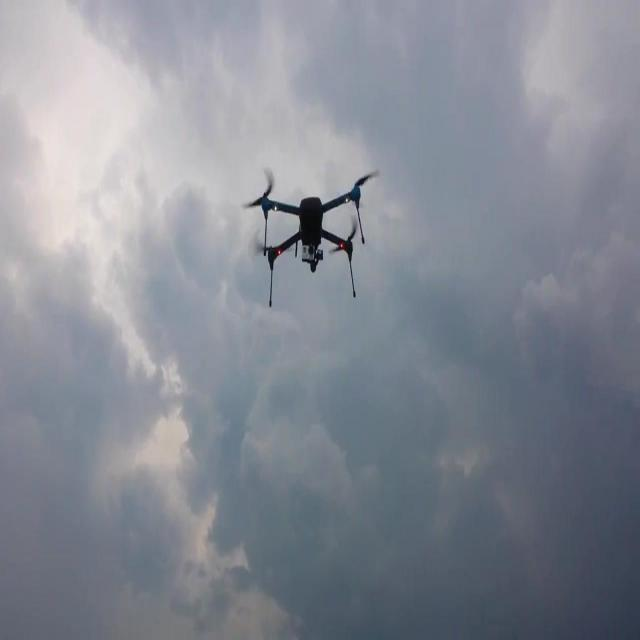UAV: (241, 168, 381, 308)
